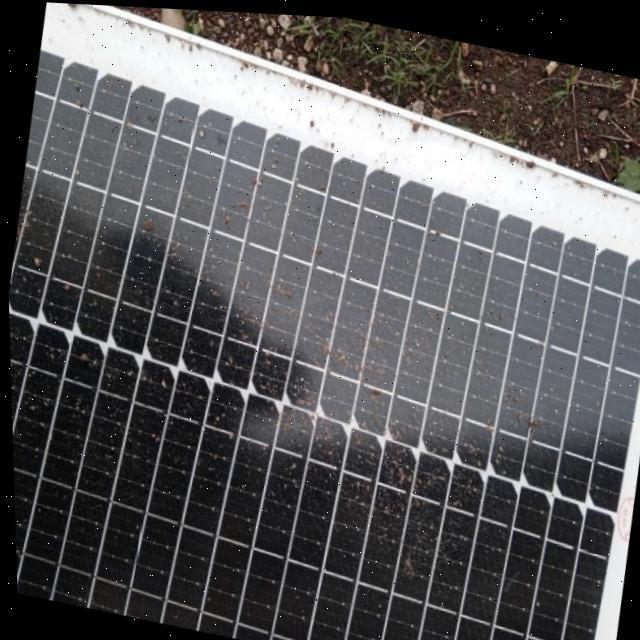Anomaly Solar Panel: (2, 82, 640, 640)
Surface Contaminant: (7, 118, 640, 640)
